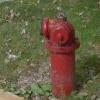Hydrant: (30, 9, 85, 95)
